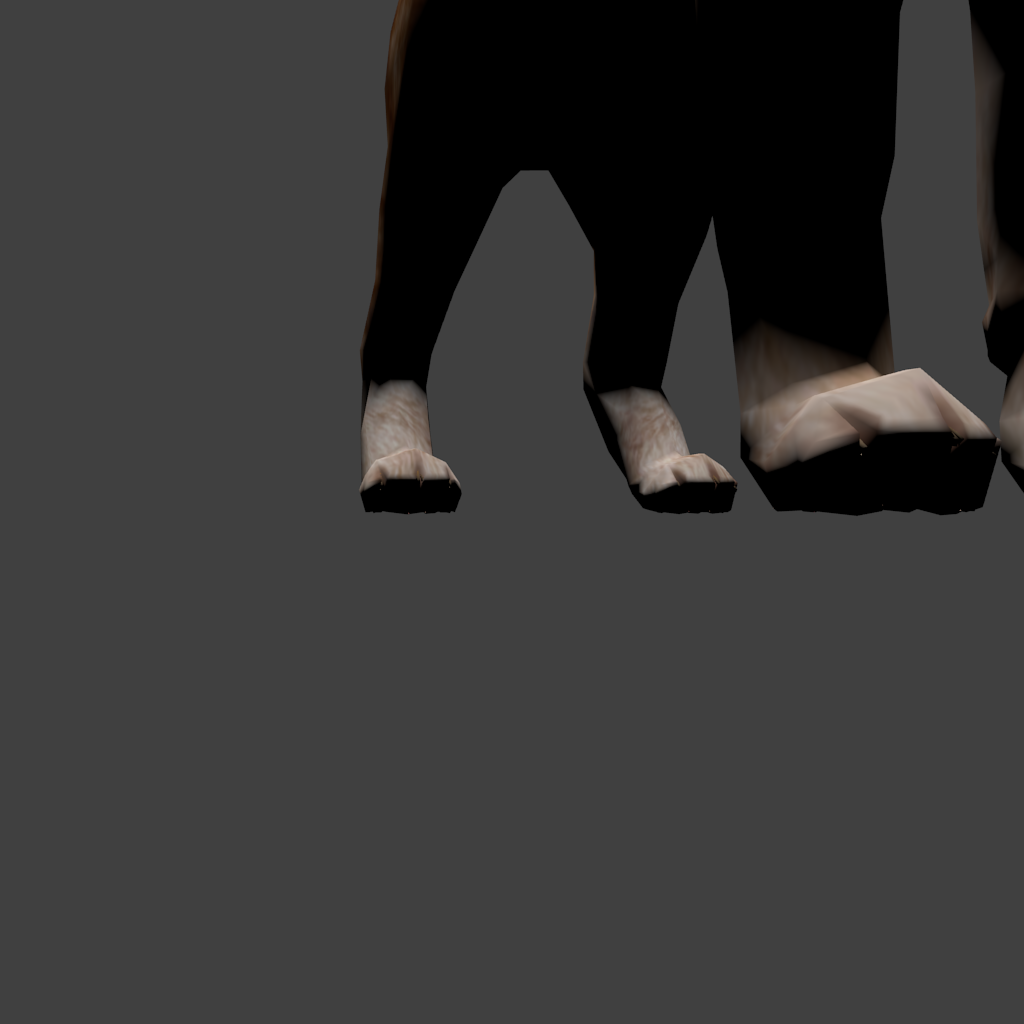Cat: (359, 0, 665, 516)
